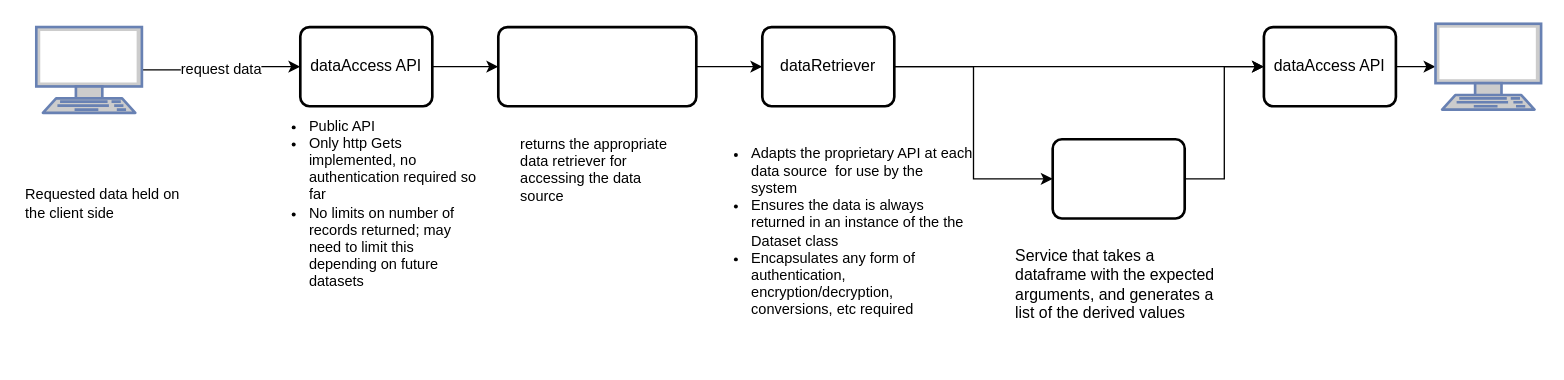
Image size: 1564x380. Some labels were removed from this diagram. Here are the shapes that lost their labels. From the top down, the box of each, then its label:
(496, 25, 697, 107): dataRetrieverCreator
(1051, 137, 1185, 219): gsw_service
